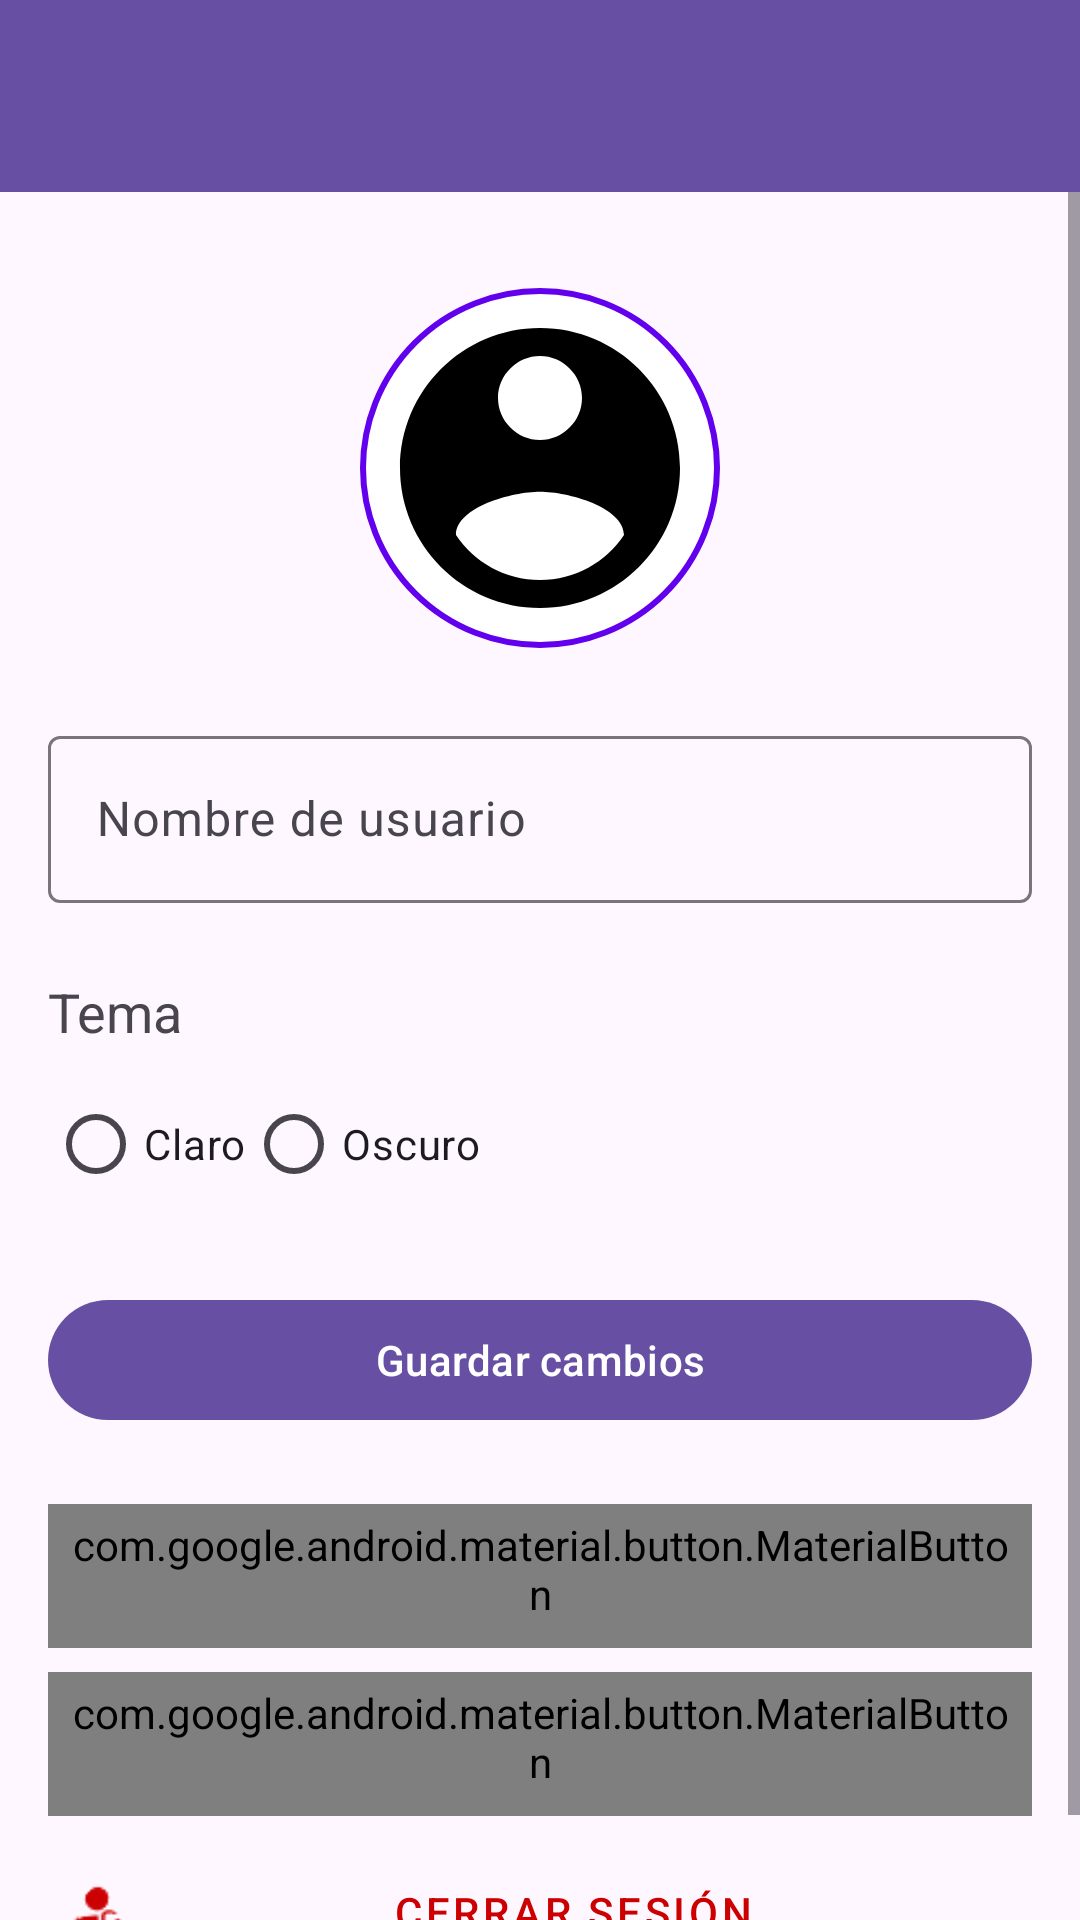

Where to tap for icons on this 1080px×1920px app screen, as (x=x, y=y):
profile: (x=540, y=468)
